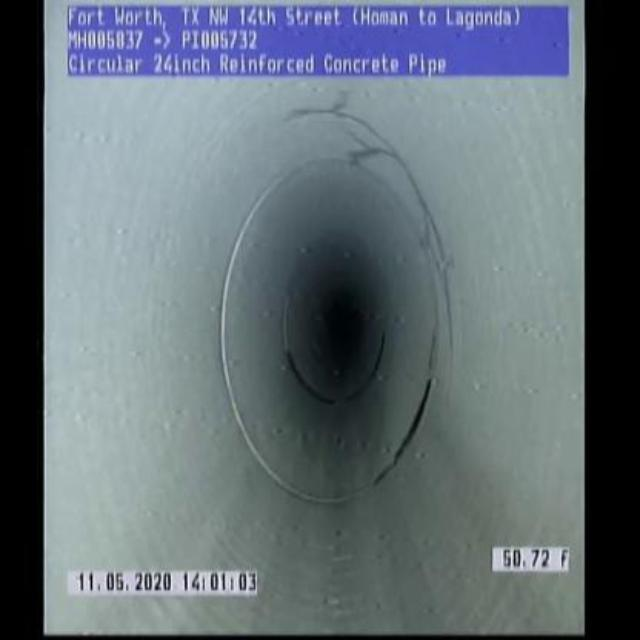Crack: (285, 103, 400, 162), (405, 162, 452, 269), (438, 269, 458, 378)
